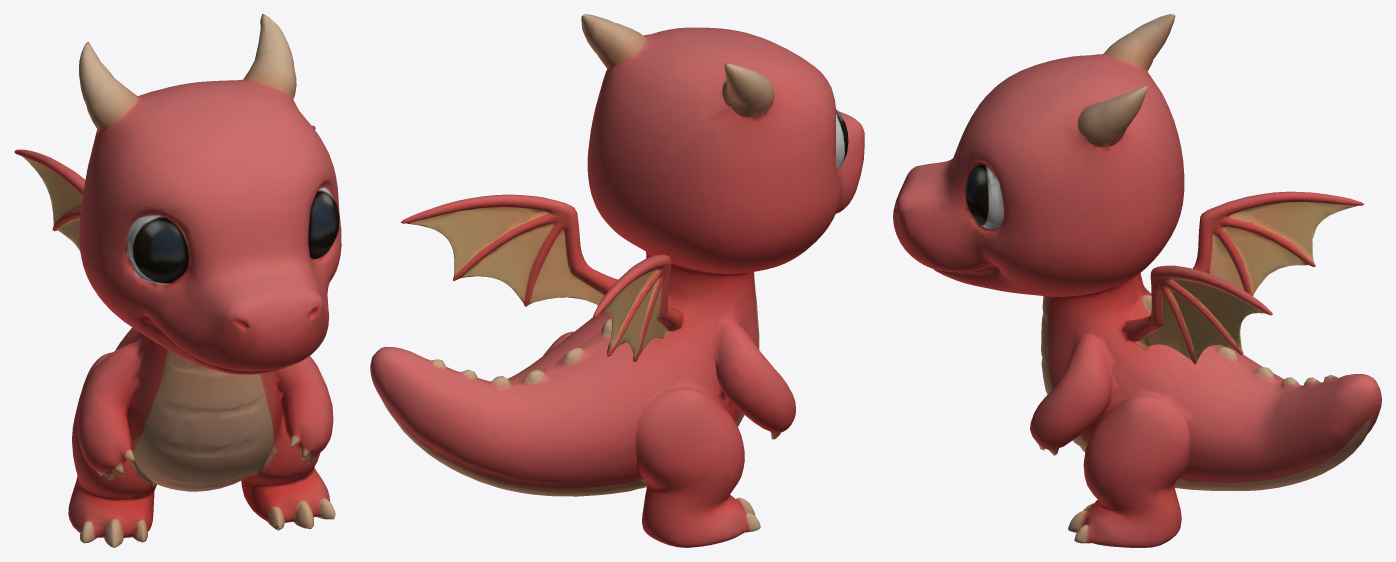
The model's file is red-dragon.glb.
3 renders of one model, left to right at view 1: azimuth 30°, elevation 25°; view 2: azimuth 150°, elevation 25°; view 3: azimuth 270°, elevation 25°, orthographic. The views are drawn at different scales.
Parts seen in each view (by area): view 1: tripo_node_960852b3-229b-42b8-a811-32e6f2bf0474; view 2: tripo_node_960852b3-229b-42b8-a811-32e6f2bf0474; view 3: tripo_node_960852b3-229b-42b8-a811-32e6f2bf0474.
Boxes of the visible parts, bbox=[...] form: tripo_node_960852b3-229b-42b8-a811-32e6f2bf0474: bbox=[14, 14, 341, 547]; tripo_node_960852b3-229b-42b8-a811-32e6f2bf0474: bbox=[370, 14, 864, 547]; tripo_node_960852b3-229b-42b8-a811-32e6f2bf0474: bbox=[893, 14, 1381, 547].
Bounding box in the file's own units: 0.6928 × 0.9789 × 0.978.
1 material, 1 textured.
